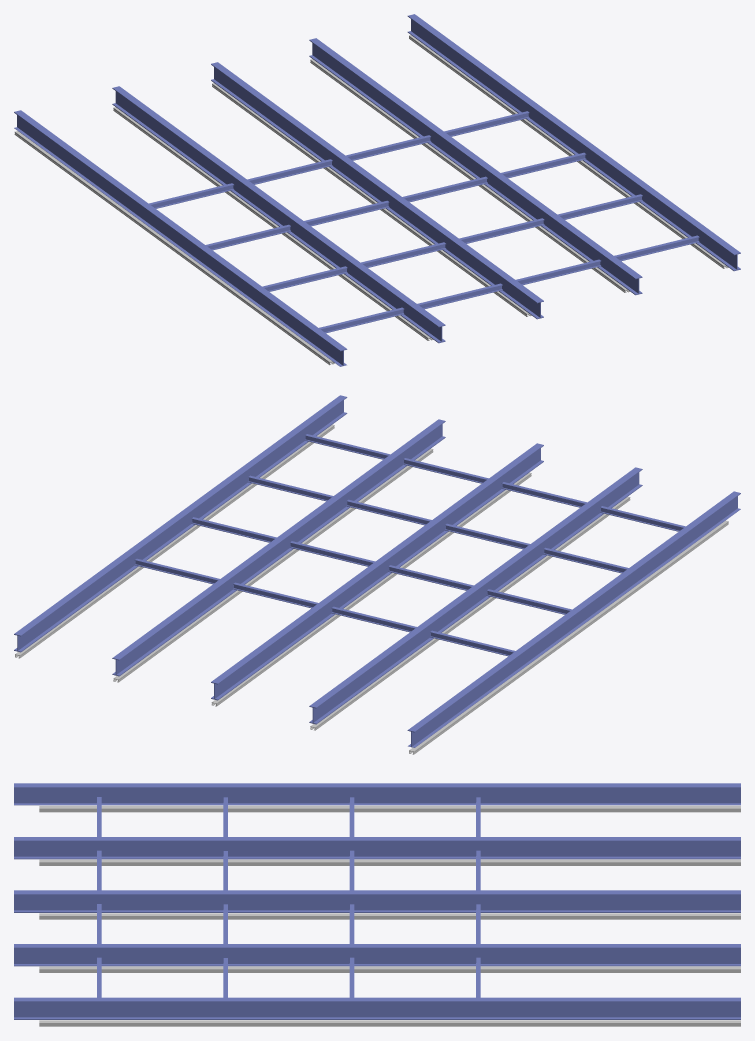
File: beams.fbx
3 views of the same model, one above another, from view 1: azimuth 30°, elevation 25°; view 2: azimuth 150°, elevation 25°; view 3: azimuth 270°, elevation 25° (orthographic). The views are drawn at different scales.
Parts seen in each view (by area): view 1: Body3; view 2: Body3; view 3: Body3.
Part boxes in pixels (x1,y1,x2,y2): Body3: (14, 14, 740, 366); Body3: (14, 395, 740, 754); Body3: (14, 783, 740, 1026).
Size of the model in its own units: 1016 by 56.04 by 1432.
